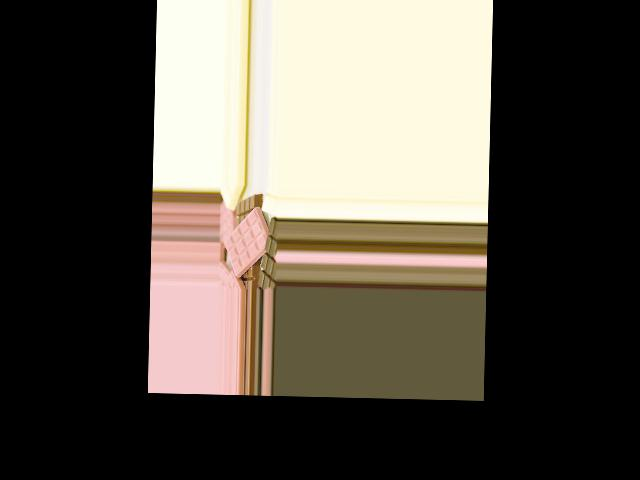chocolate: (221, 207, 278, 278)
